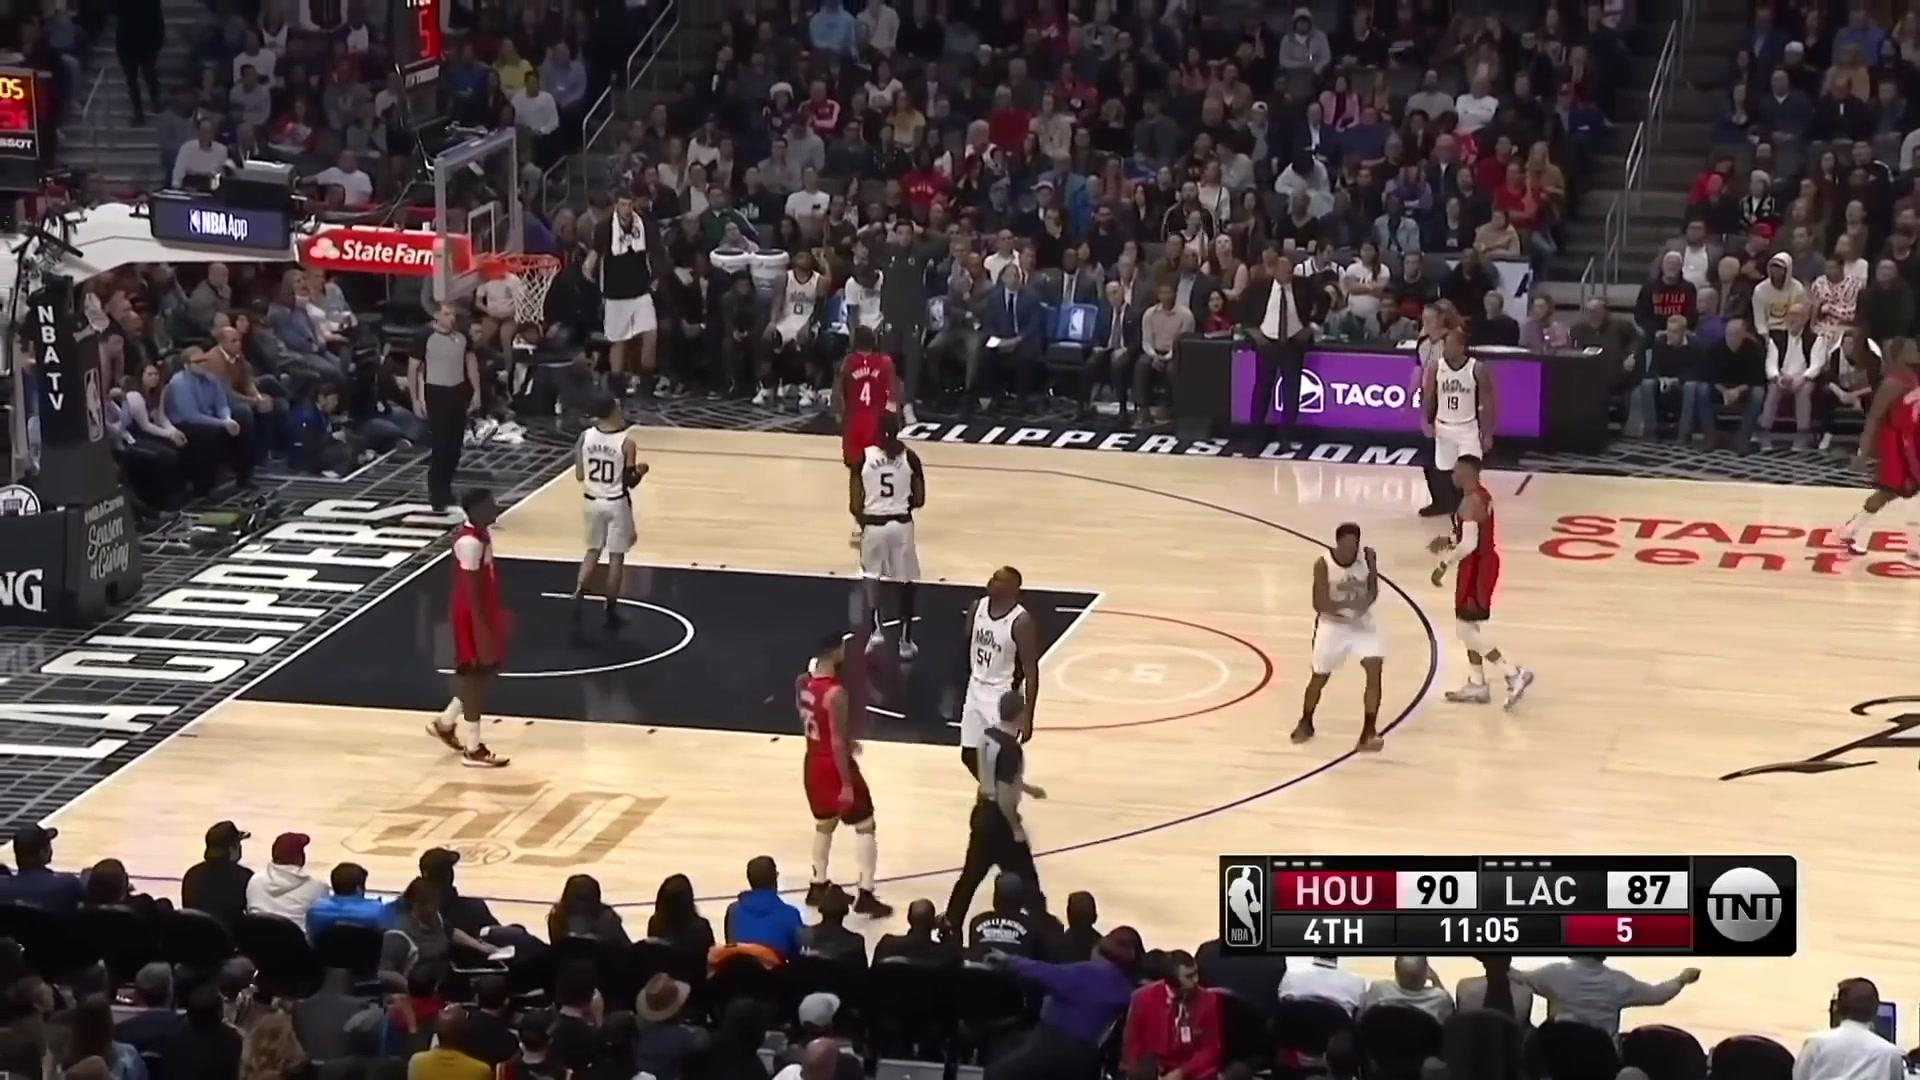no_foul: (1253, 439, 1582, 752)
